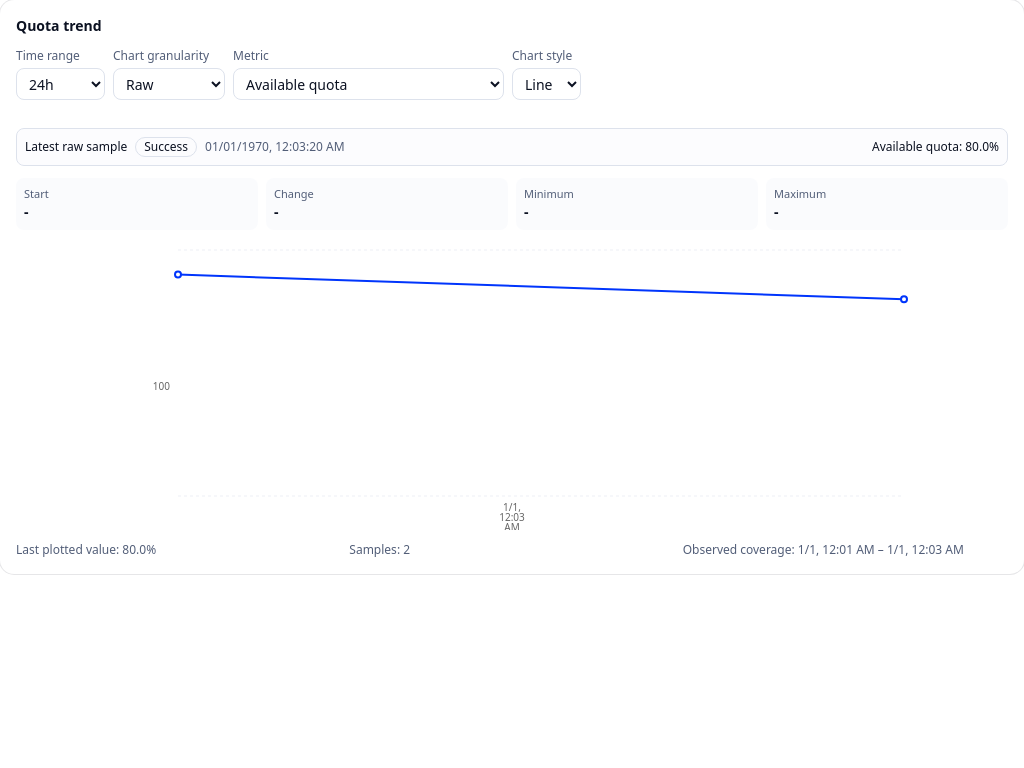
Test case: quota history trend › renders the selected line, area, and bar chart styles as real SVG paths through controlled options
Expected: the element with test id "quota-history-chart-line" is shown, [16,242,1008,530]
Select "Area" in the dropdown labelled "Chart style": (546,84) [512,68,581,100]
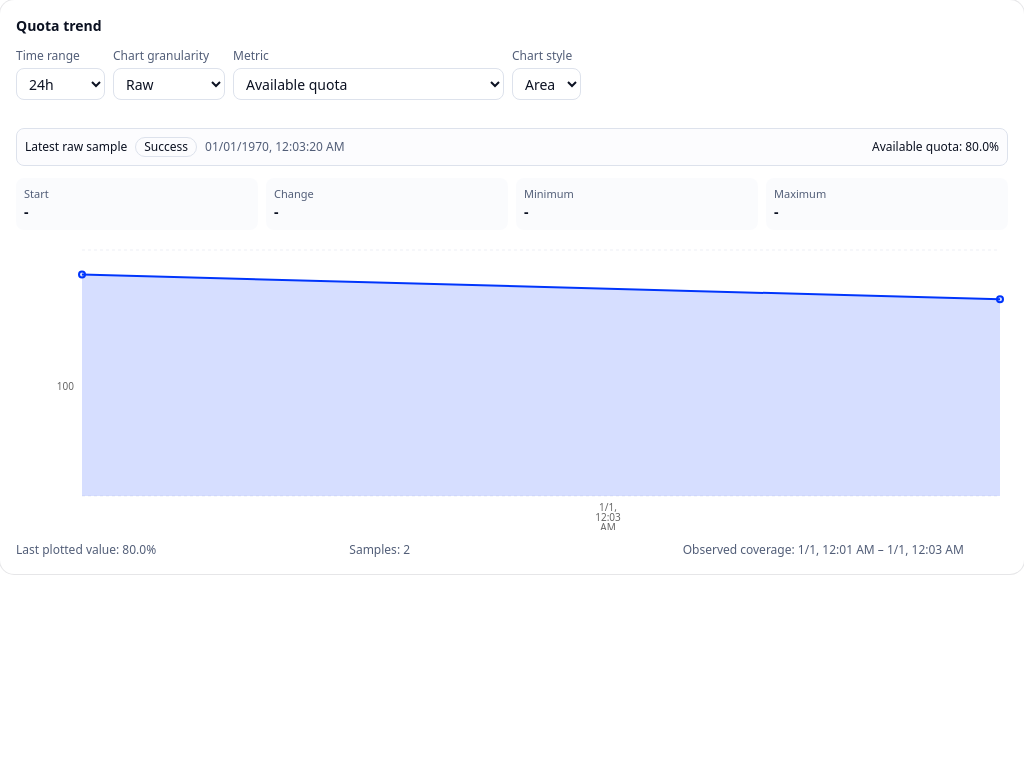
Expected: the element with test id "quota-history-chart-area" is shown, [16,242,1008,530]
Select "Bar" in the dropdown labelled "Chart style": (546,84) [512,68,581,100]
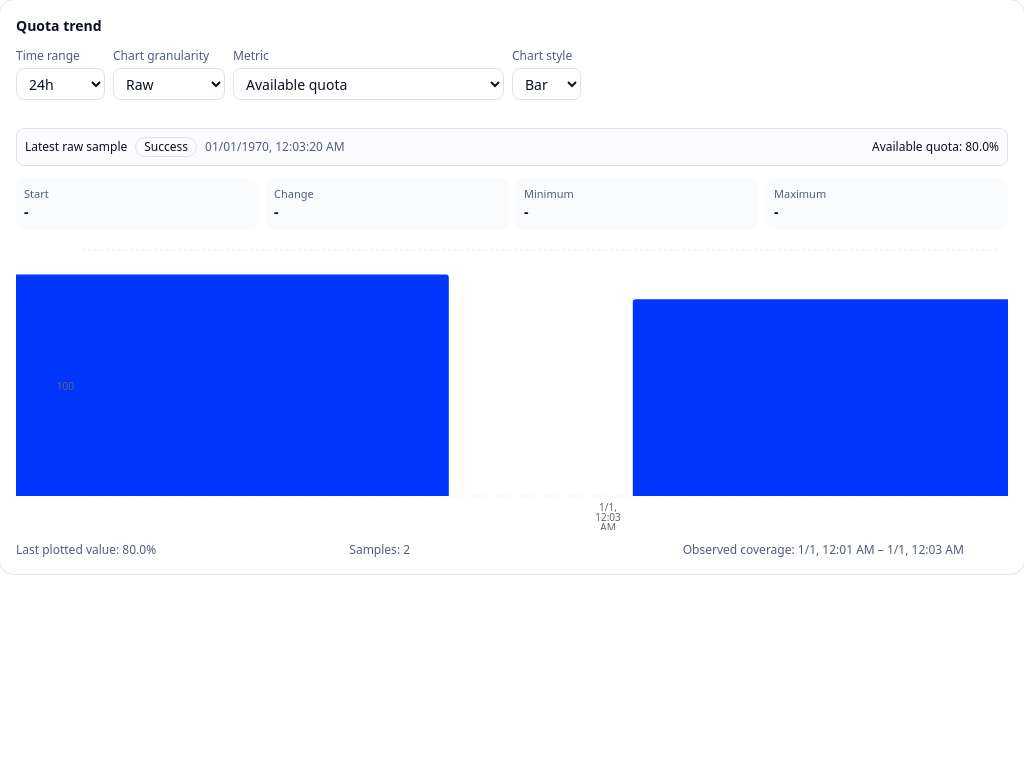
Expected: the element with test id "quota-history-chart-bar" is shown, [16,242,1008,530]
